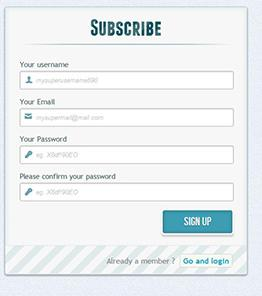button: (162, 210, 234, 236)
field: (21, 69, 235, 92), (18, 181, 235, 202), (18, 107, 233, 128), (20, 144, 234, 165)
field_with_label: (18, 61, 236, 95), (17, 172, 238, 204), (16, 97, 235, 129), (19, 135, 236, 166)
